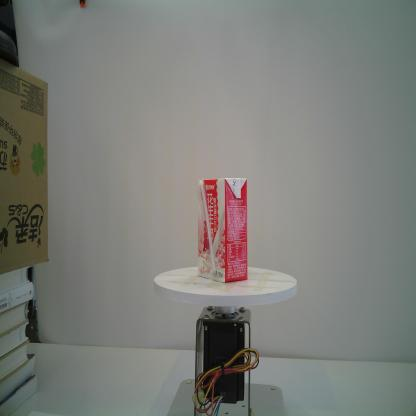Milk: (196, 176, 249, 284)
